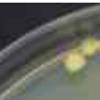yellow: (59, 50, 89, 78), (76, 37, 100, 58)
